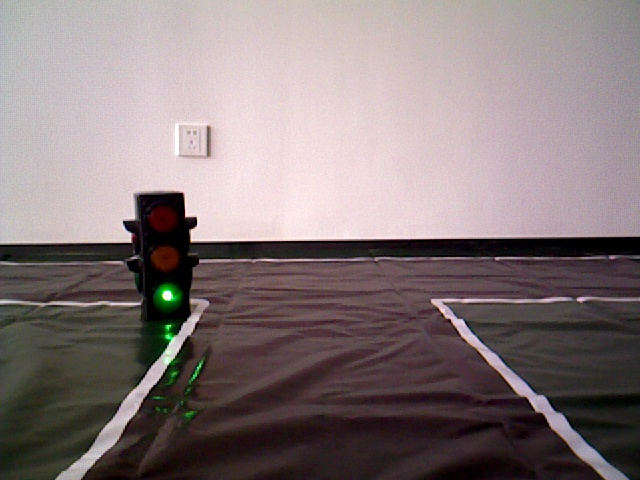green: (136, 194, 186, 309)
